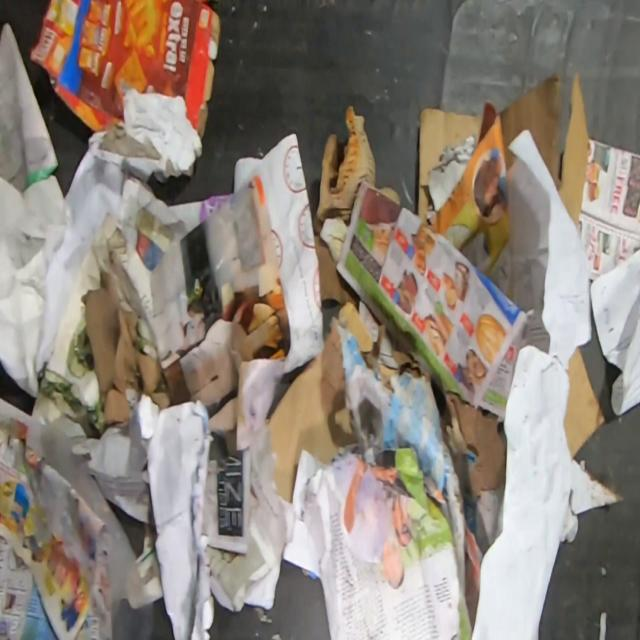cardboard: (28, 0, 221, 139), (266, 324, 358, 503), (500, 69, 588, 227), (314, 105, 402, 234), (416, 108, 483, 224), (563, 346, 606, 460)
soft_plastic: (32, 415, 146, 609)
